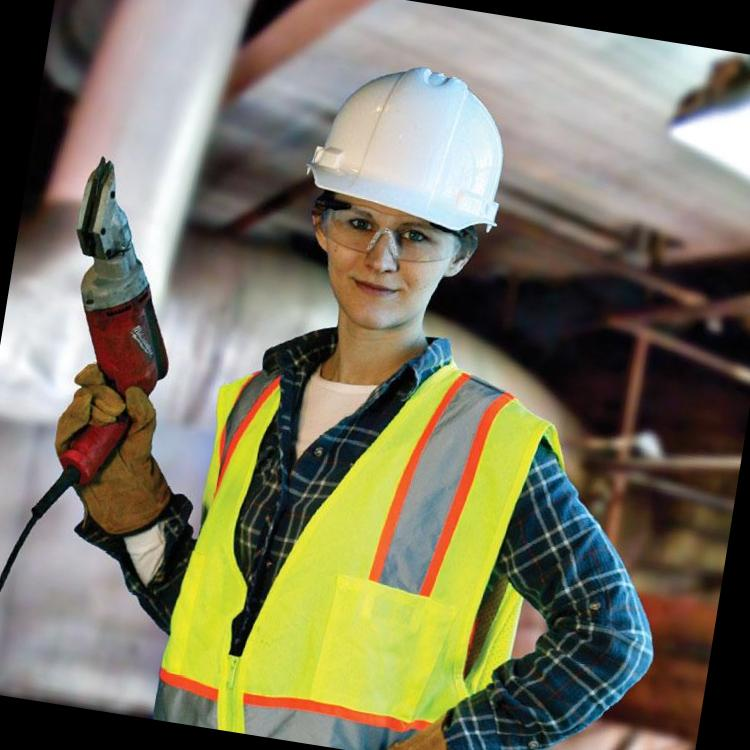Vest: (149, 322, 572, 750)
